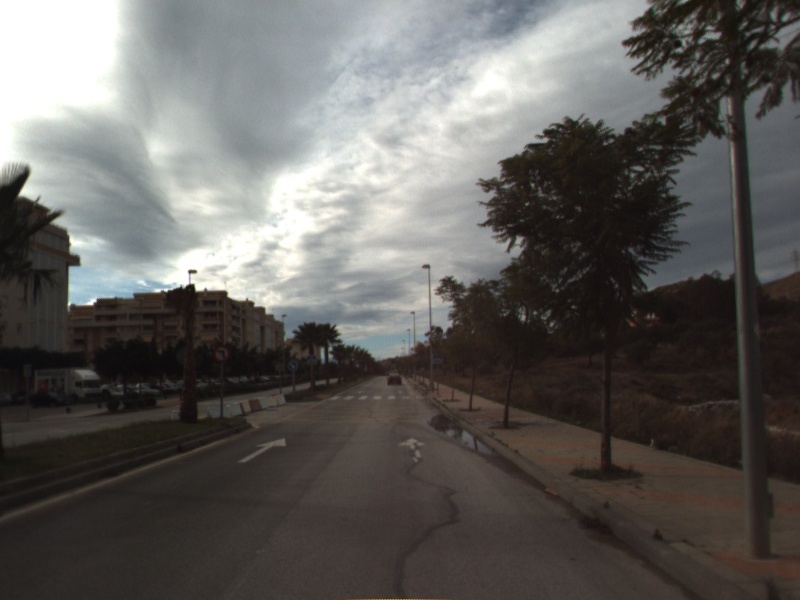STRAIGHT: (236, 436, 288, 465), (396, 435, 427, 466)
